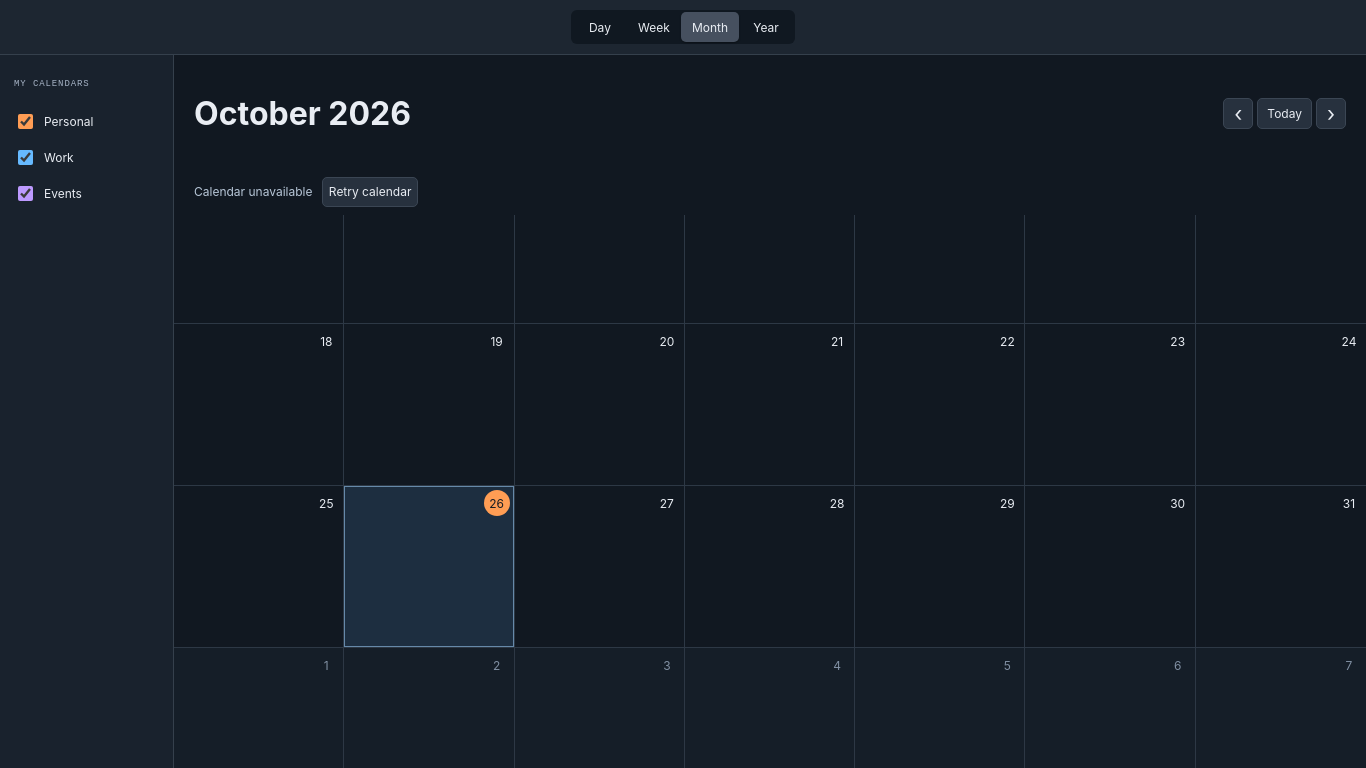
Test case: shows a retry on a failed load without inventing events
(page scrolled)
Check: the message shows "Calendar unavailable", box [194,184,312,199]
Step 1. Click the button "Retry calendar" → point(370, 192), box [322,177,418,207]
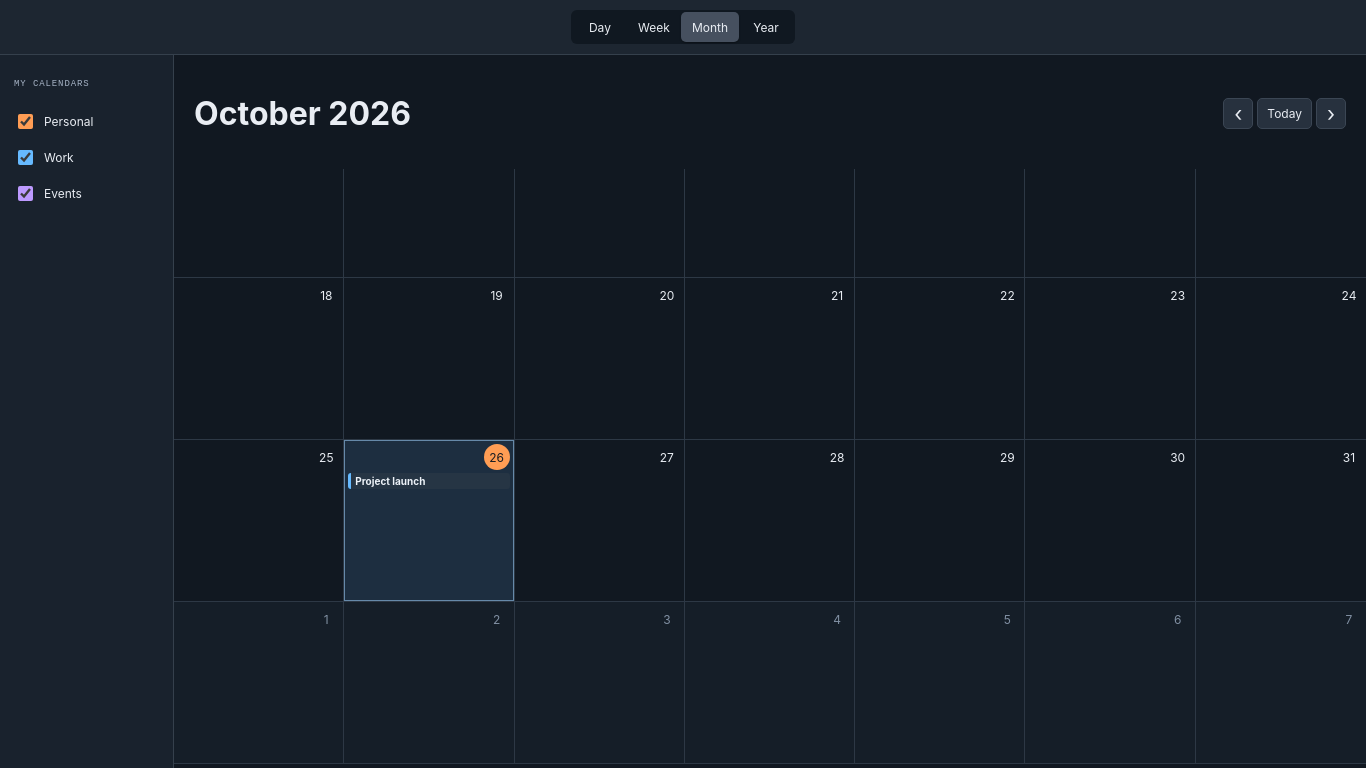
Check: the button named "Project launch All day" is shown, box [348,473,510,489]
